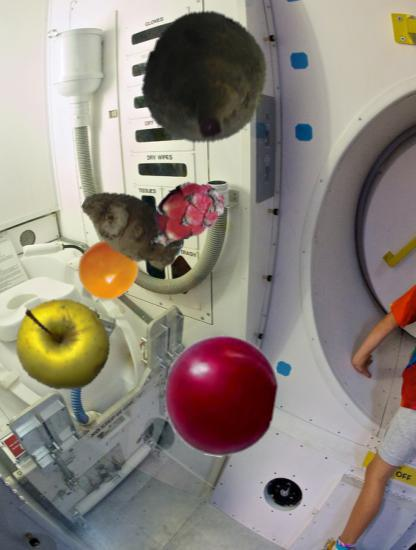Apple: (14, 296, 111, 393)
Beetroot: (131, 10, 278, 157)
Cherry: (159, 335, 281, 457)
Ginger: (77, 173, 187, 283)
Physalis: (77, 240, 138, 301)
Pitahaya: (142, 171, 229, 258)
